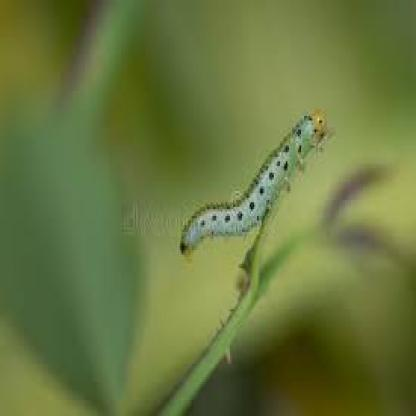sawfly: (176, 109, 328, 260)
